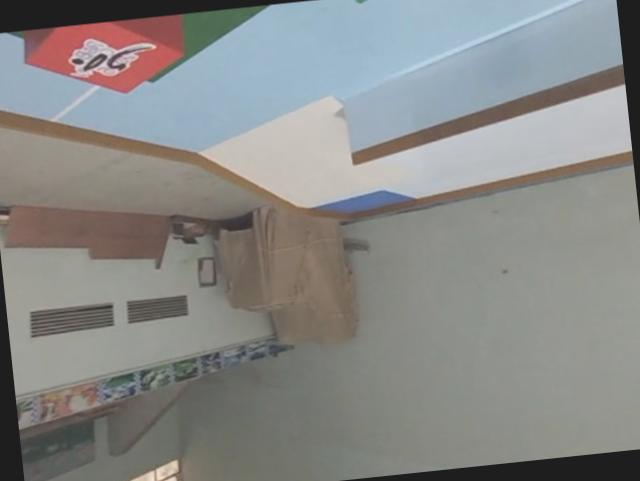R1: (20, 14, 185, 103)
